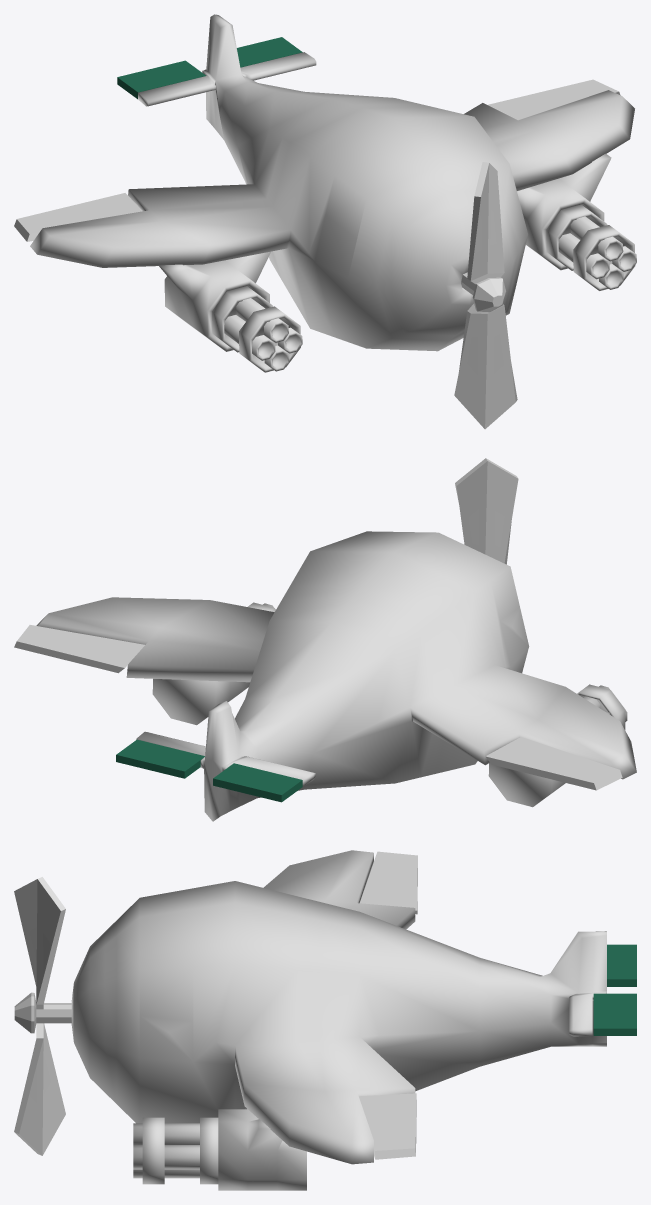
3 views of the same model, one above another, from view 1: azimuth 30°, elevation 25°; view 2: azimuth 150°, elevation 25°; view 3: azimuth 270°, elevation 25° (orthographic). The views are drawn at different scales.
Visible parts, largest first — view 1: Plane_body, Plane_gun_right, Plane_Propeller, Plane_gun_left, Plane_Elevator, Plane_Aileron_Right, Plane_Aileron_Left; view 2: Plane_body, Plane_Propeller, Plane_Elevator, Plane_Aileron_Right, Plane_Aileron_Left, Plane_gun_left, Plane_gun_right; view 3: Plane_body, Plane_gun_left, Plane_Propeller, Plane_Elevator, Plane_Aileron_Left, Plane_Aileron_Right.
Boxes of the visible parts, x1=… form: Plane_body: x1=30, y1=14, x2=634, y2=351; Plane_gun_right: x1=159, y1=251, x2=302, y2=372; Plane_Propeller: x1=454, y1=162, x2=517, y2=429; Plane_gun_left: x1=517, y1=153, x2=636, y2=290; Plane_Elevator: x1=117, y1=37, x2=302, y2=99; Plane_Aileron_Right: x1=14, y1=193, x2=142, y2=241; Plane_Aileron_Left: x1=488, y1=79, x2=620, y2=120; Plane_body: x1=36, y1=531, x2=636, y2=821; Plane_Propeller: x1=455, y1=458, x2=518, y2=564; Plane_Elevator: x1=116, y1=739, x2=302, y2=802; Plane_Aileron_Right: x1=485, y1=737, x2=622, y2=790; Plane_Aileron_Left: x1=14, y1=625, x2=144, y2=673; Plane_gun_left: x1=152, y1=602, x2=275, y2=725; Plane_gun_right: x1=488, y1=684, x2=627, y2=807; Plane_body: x1=71, y1=850, x2=606, y2=1164; Plane_gun_left: x1=133, y1=1107, x2=306, y2=1190; Plane_Propeller: x1=14, y1=877, x2=71, y2=1155; Plane_Elevator: x1=593, y1=944, x2=636, y2=1035; Plane_Aileron_Left: x1=359, y1=1093, x2=416, y2=1159; Plane_Aileron_Right: x1=360, y1=851, x2=417, y2=914.
Size of the model in its own units: 835 by 355 by 723.
